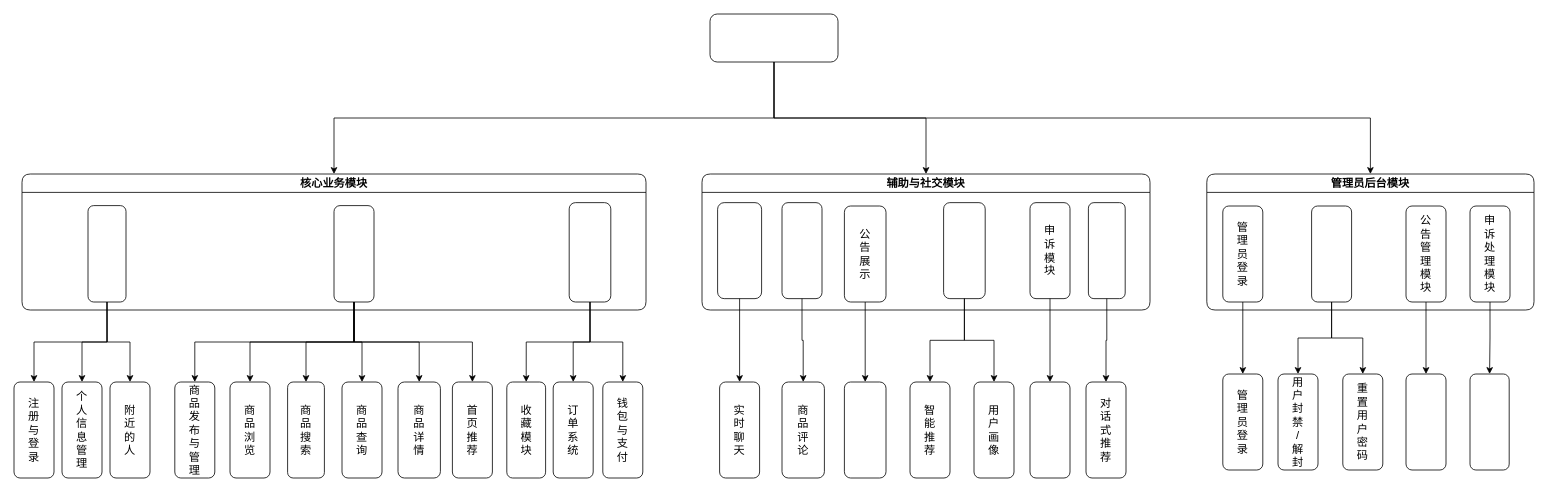
Some shapes in this 1548 by 492 pixel diagram are drawn without their labels. Each missing label, with the centre of its shape:
"AI 推 荐 服 务 模 块" goes at pixel 964 250.
"交 易 模 块" goes at pixel 589 252.
"公 告 查 看" goes at pixel 865 429.
"公 告 管 理" goes at pixel 1425 421.
"商 品 模 块" goes at pixel 353 253.
"实 时 聊 天 模 块" goes at pixel 739 250.
"智 能 助 手 模 块" goes at pixel 1106 250.
"校园二手交易平台系统" goes at pixel 773 37.
"用 户 模 块" goes at pixel 106 253.
"用 户 管 理 模 块" goes at pixel 1331 253.
"申 诉 处 理" goes at pixel 1489 421.
"订 单 申 诉" goes at pixel 1049 429.
"评 论 模 块" goes at pixel 801 250.
